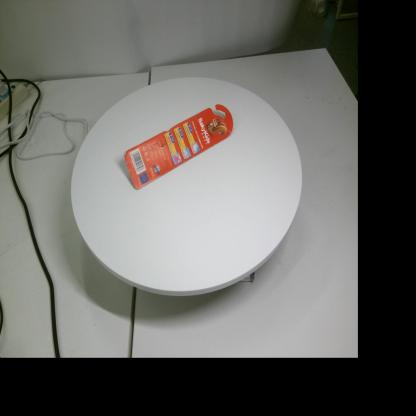Personal Hygiene: (124, 104, 233, 190)
